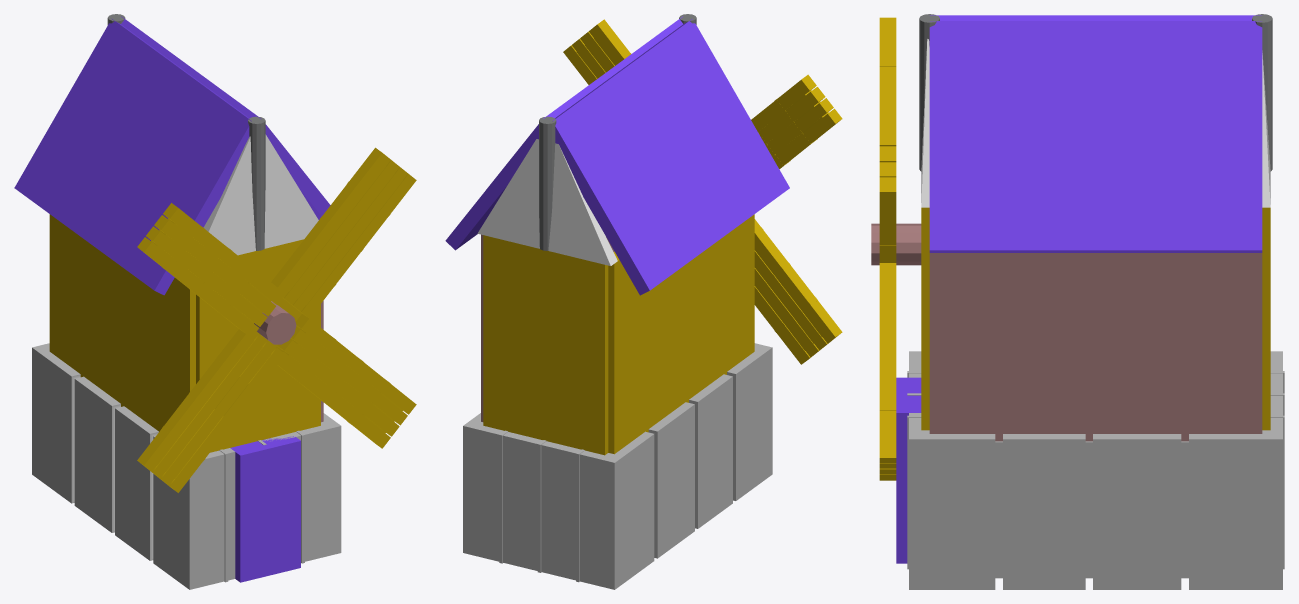
Rendered from Windmill.fbx.
3 renders of one model, left to right at view 1: azimuth 30°, elevation 25°; view 2: azimuth 150°, elevation 25°; view 3: azimuth 270°, elevation 25°, orthographic. The views are drawn at different scales.
Parts seen in each view (by area): view 1: Windmill; view 2: Windmill; view 3: Windmill.
Boxes of the visible parts, x1=… form: Windmill: x1=14, y1=14, x2=416, y2=589; Windmill: x1=445, y1=14, x2=842, y2=589; Windmill: x1=871, y1=14, x2=1284, y2=589.
Size of the model in its own units: 4.49 by 7.01 by 4.97.
